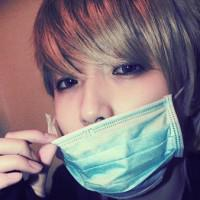WRONG: (37, 31, 189, 183)
